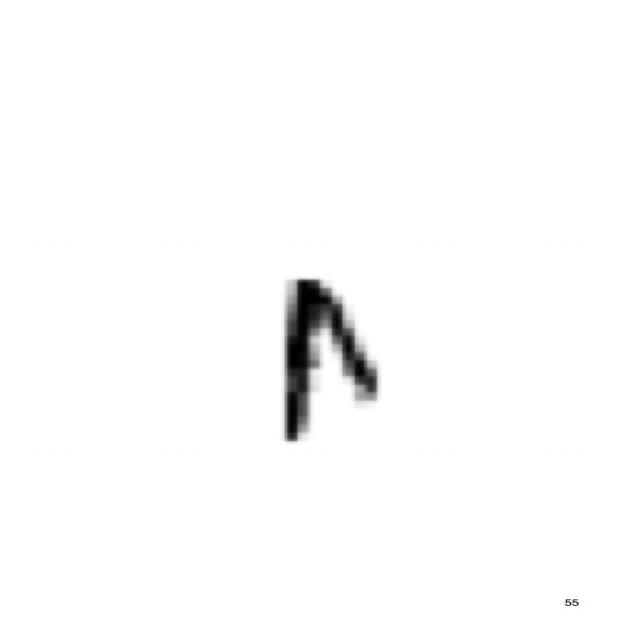8 -eight-: (252, 263, 398, 453)
